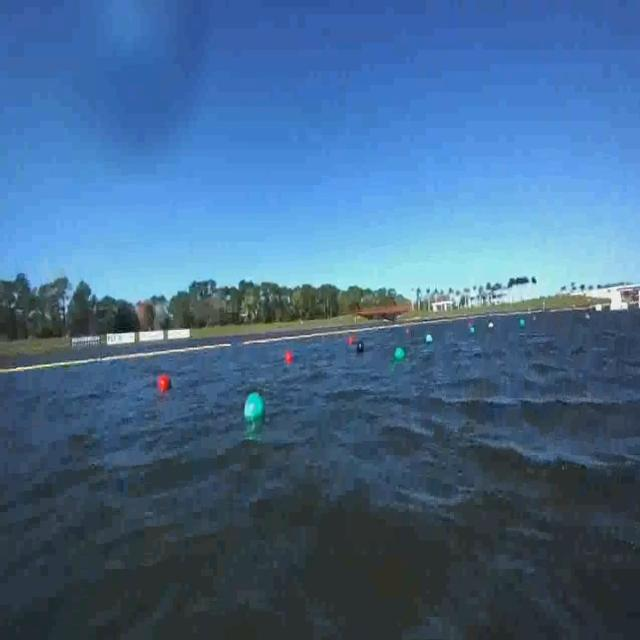black-buoy: (356, 342, 364, 355)
green-buoy: (245, 394, 268, 426), (394, 346, 405, 362), (517, 319, 525, 332)
red-buoy: (160, 376, 173, 392), (285, 351, 293, 364)
